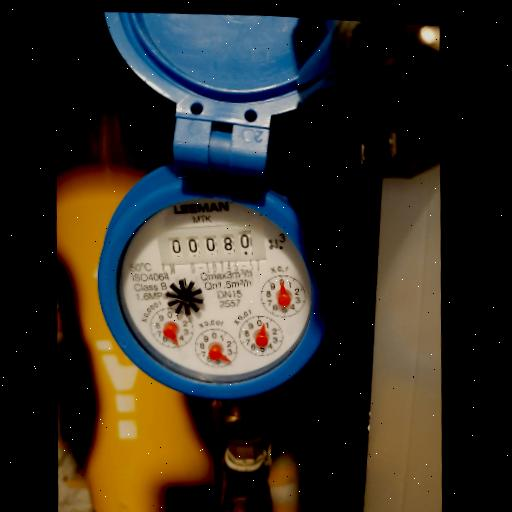0: (236, 229, 255, 257), (184, 233, 200, 258), (167, 235, 183, 258), (203, 233, 217, 255)
8: (219, 232, 235, 255)
border_water_meter_number: (154, 216, 268, 273)
